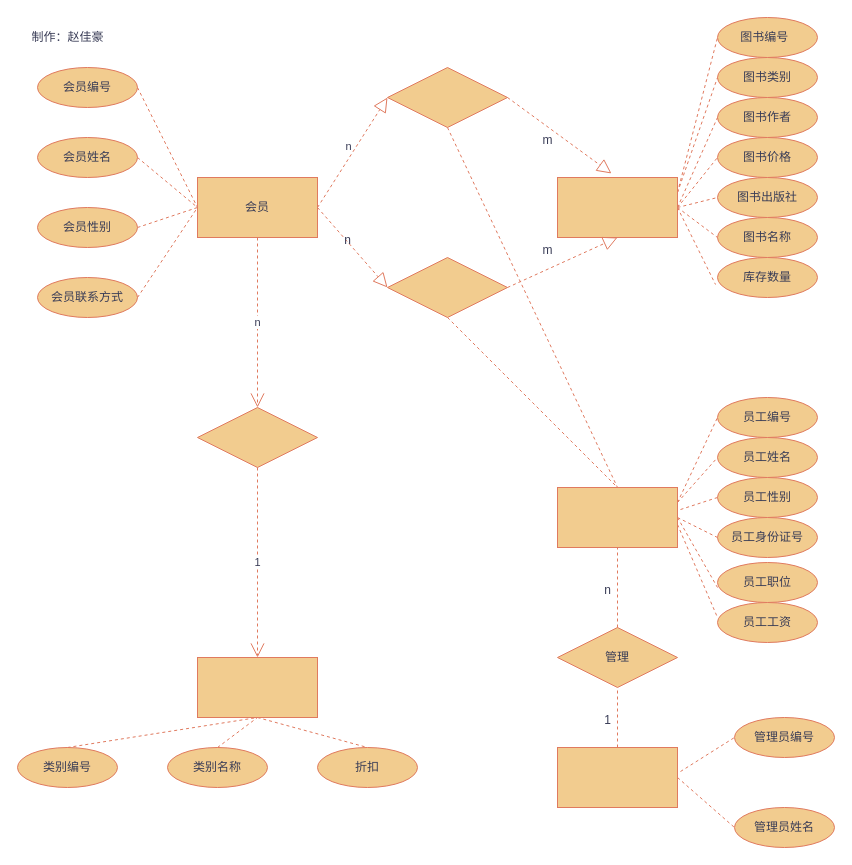
Some shapes in this 852 by 865 pixel diagram are drawn without their labels. The shapes that lost their labels are listed below. From the top down, each one's centre as x and y in pixels, then its label:
At (x=447, y=97): "买书".
At (x=617, y=207): "图书".
At (x=447, y=287): "退书".
At (x=257, y=437): "从属".
At (x=617, y=517): "工作人员".
At (x=257, y=687): "会员类别".
At (x=617, y=777): "管理人员".
